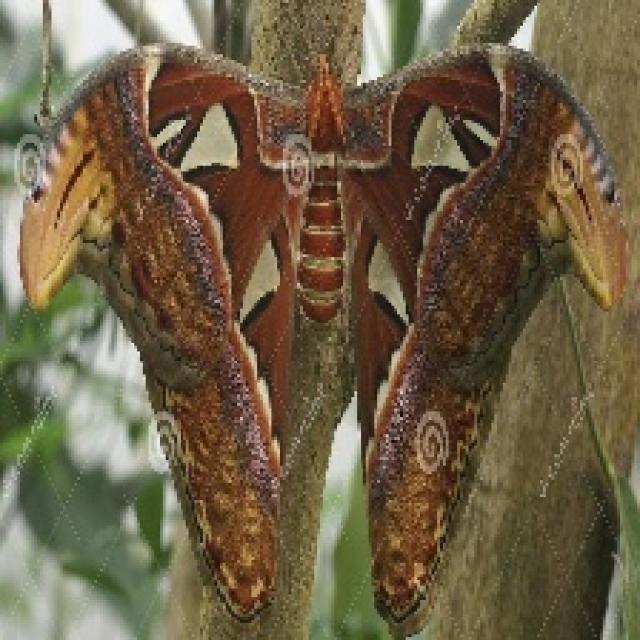butterfly: (14, 0, 631, 634)
